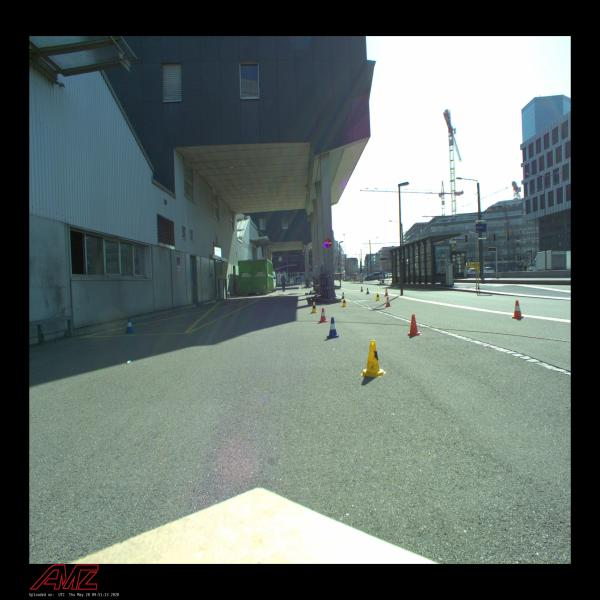blue_cone: (327, 317, 339, 338), (125, 318, 134, 333), (341, 292, 345, 299), (366, 288, 370, 294), (361, 286, 364, 292)
orange_cone: (407, 314, 420, 336), (512, 300, 524, 318), (319, 308, 328, 322), (386, 297, 392, 307), (384, 289, 389, 296)
yellow_cone: (360, 340, 387, 378), (311, 302, 318, 313), (342, 298, 347, 308), (376, 292, 380, 301)
